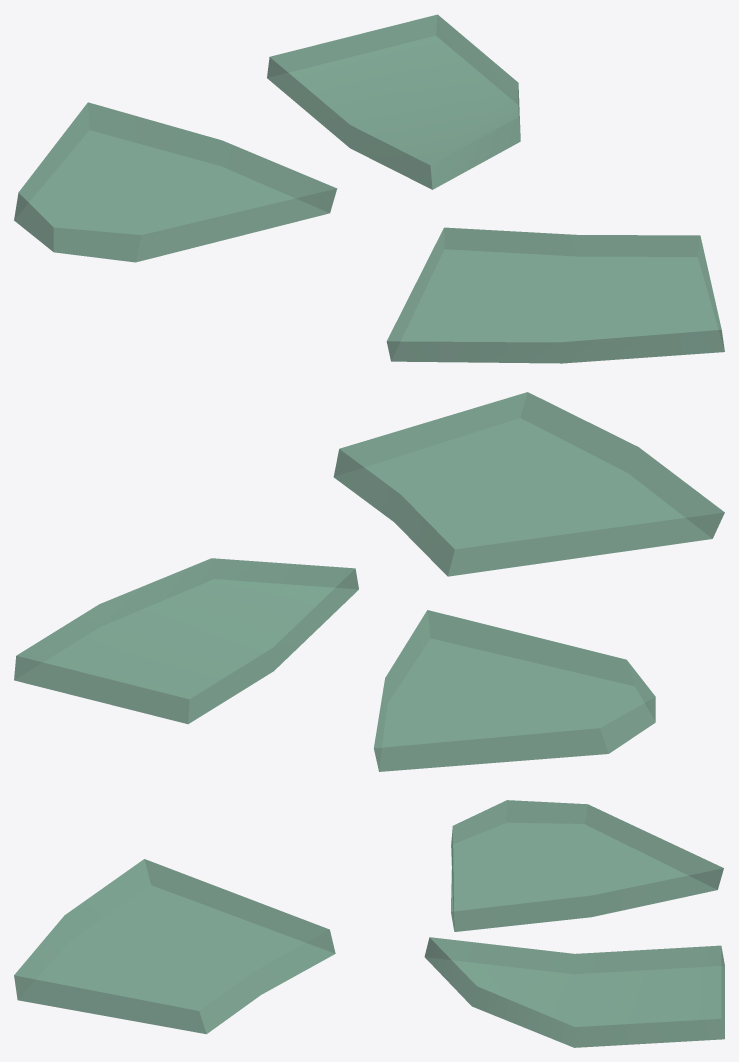
Rendered from PetriFragments005.FBX.
3 renders of one model, top to bottom at view 1: azimuth 30°, elevation 25°; view 2: azimuth 150°, elevation 25°; view 3: azimuth 270°, elevation 25°, orthographic. The views are drawn at different scales.
Parts seen in each view (by area): view 1: Object005; view 2: Object005; view 3: Object005.
Boxes of the visible parts, x1=… form: Object005: x1=14, y1=14, x2=724, y2=363; Object005: x1=14, y1=392, x2=724, y2=771; Object005: x1=14, y1=800, x2=724, y2=1047.
Size of the model in its own units: 37.43 by 3.03 by 50.6.
